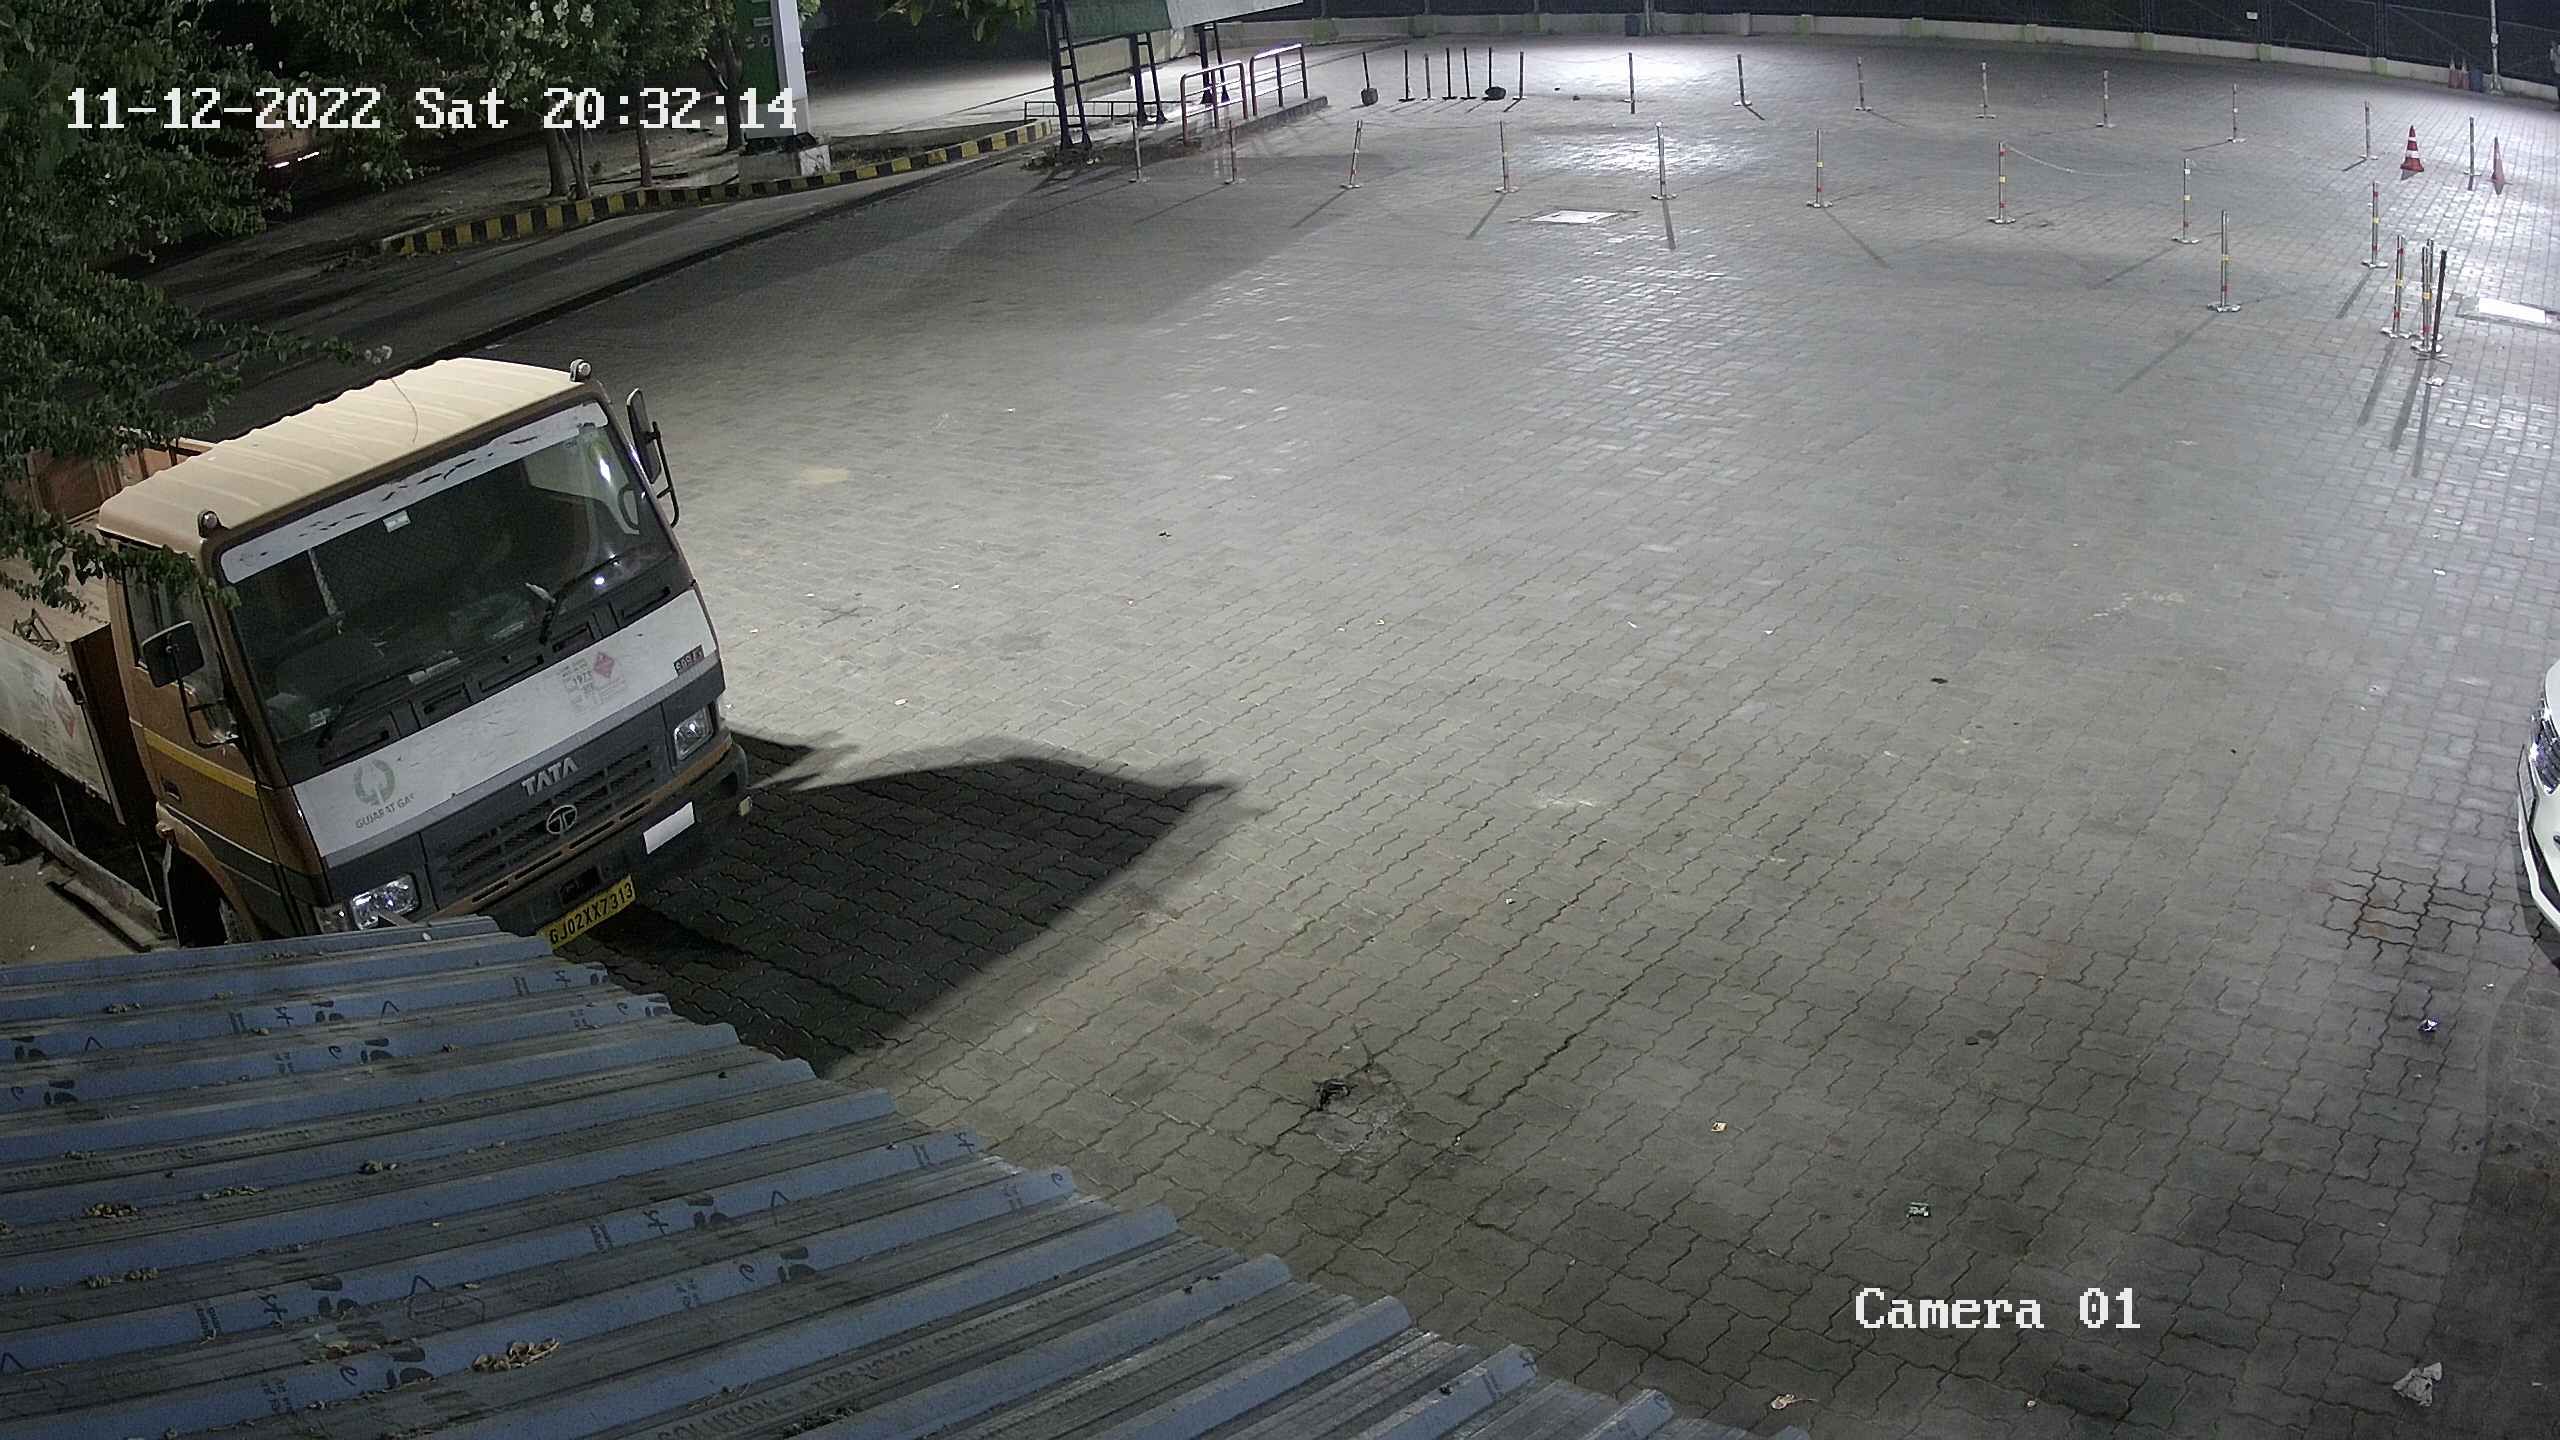Car: (2488, 510, 2555, 1050)
HMV: (2, 336, 763, 971)
